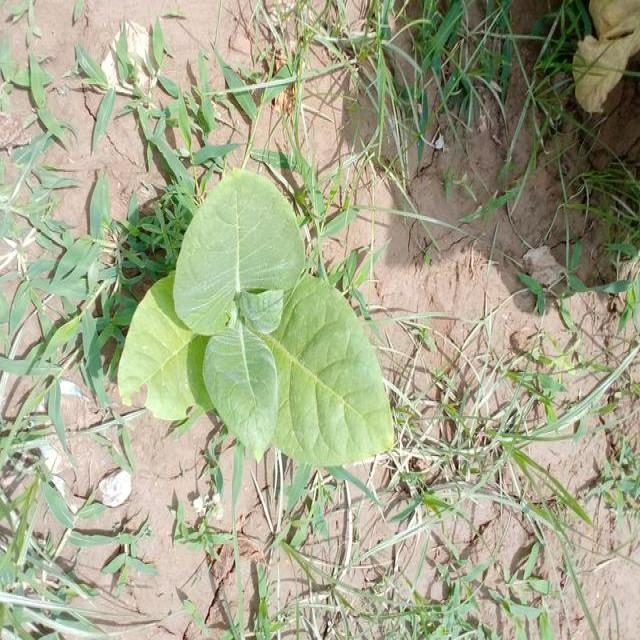crop: (133, 181, 384, 464)
